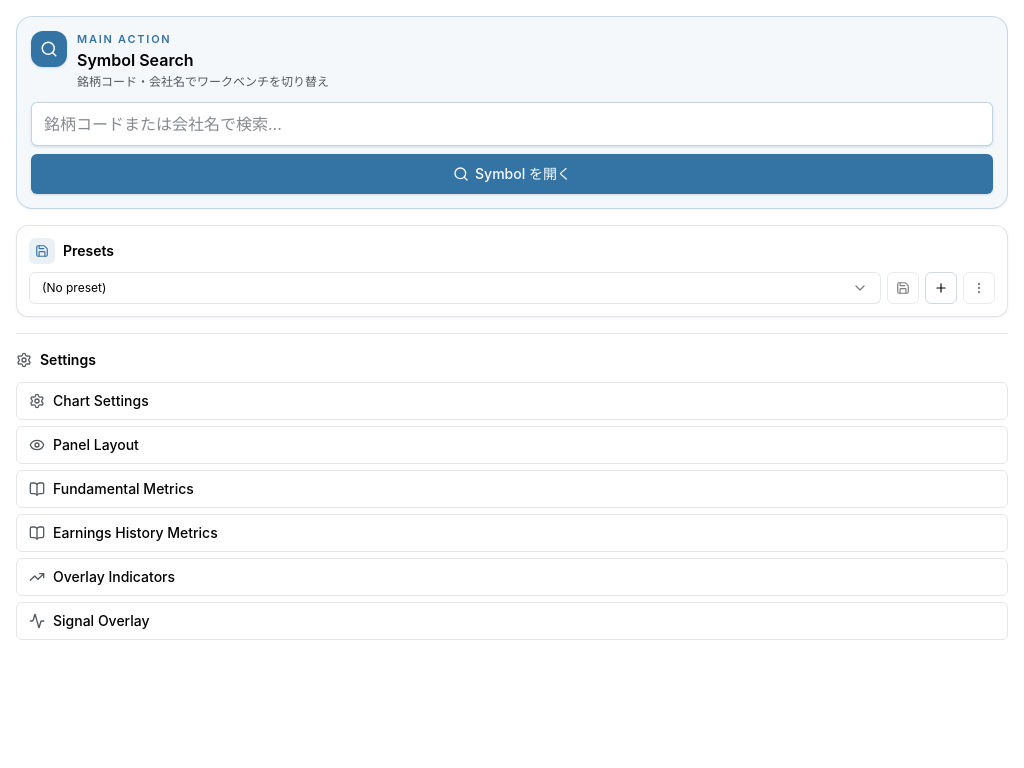
ChartControls › opens chart settings dialog and renders visible bars control
The width and height of the screenshot is (1024, 768).
Click the button "Chart Settings" at (101, 400), box [16, 382, 1008, 420]
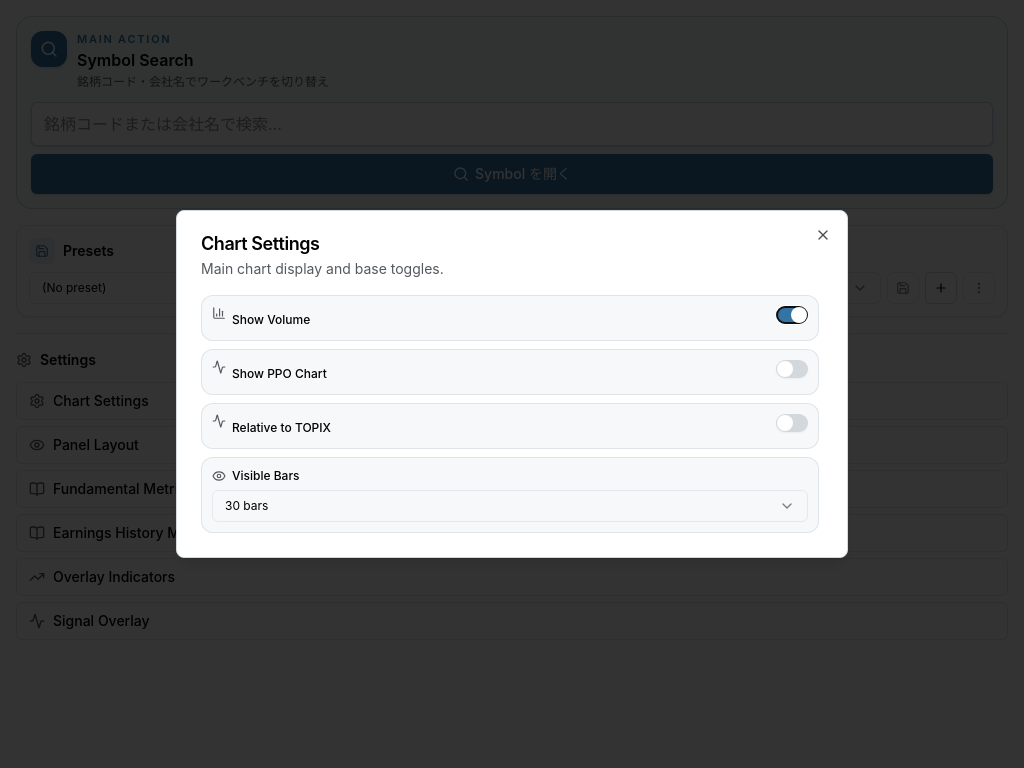
expect the text "Visible Bars" is shown: met, box [232, 468, 300, 484]
